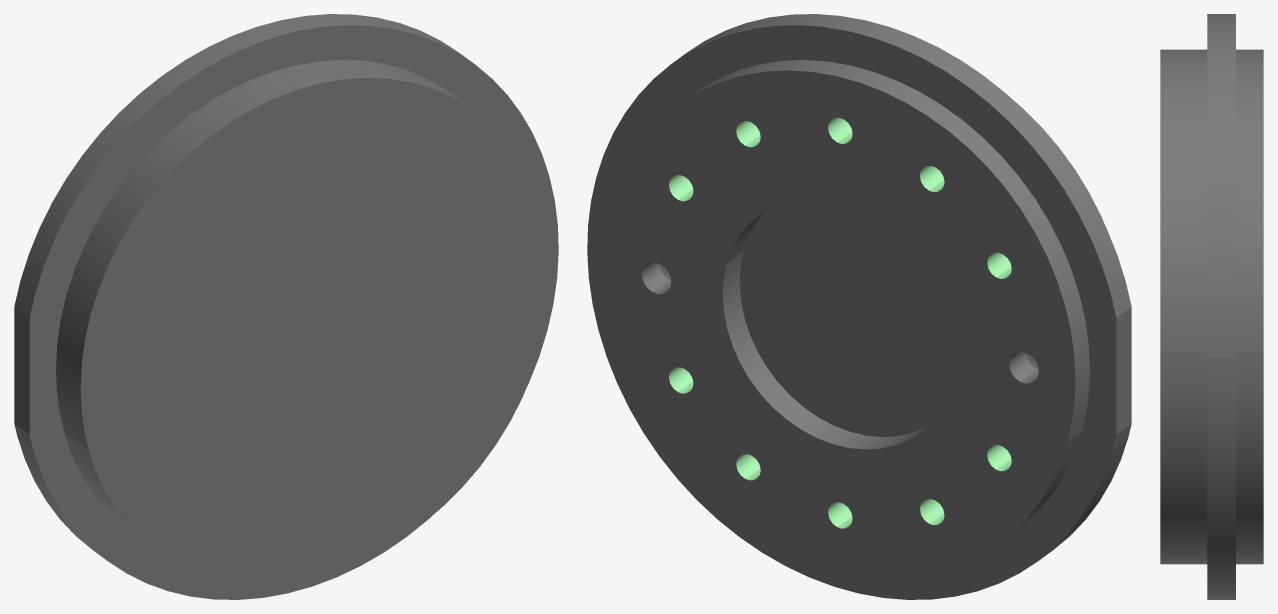
3 renders of one model, left to right at view 1: azimuth 30°, elevation 25°; view 2: azimuth 150°, elevation 25°; view 3: azimuth 270°, elevation 25°, orthographic. The views are drawn at different scales.
Visible parts, largest first — view 1: Mesh_0; view 2: Mesh_0; view 3: Mesh_0.
Part boxes in pixels (x1,y1,x2,y2): Mesh_0: [14, 14, 558, 599]; Mesh_0: [587, 14, 1131, 599]; Mesh_0: [1160, 14, 1263, 599].
Bounding box in the file's own units: 0.18 × 0.182 × 0.032.
